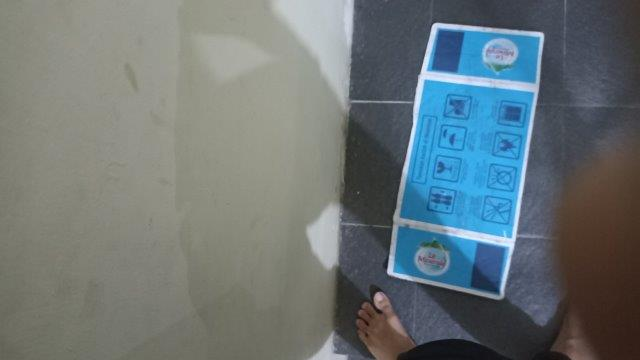kardus: (388, 24, 543, 298)
